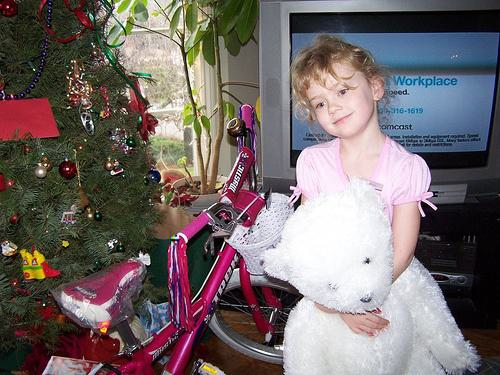car: (43, 104, 307, 375)
person: (296, 39, 440, 337)
tvmonitor: (263, 1, 500, 206)
